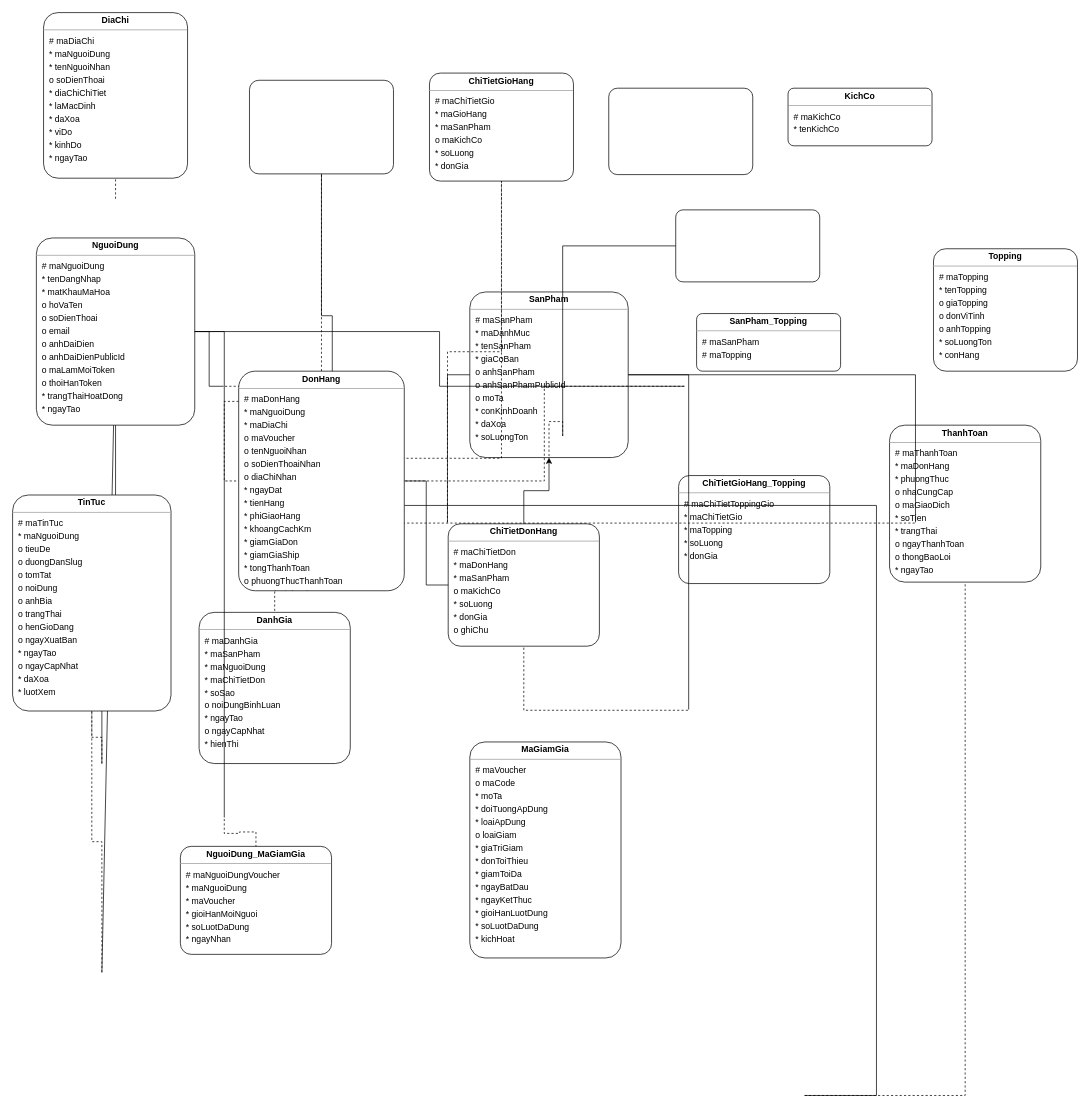
Image size: 1090x1109. Some labels were removed from this diagram. Each missing label, with the centre of its shape:
DanhMuc # maDanhMuc * tenDanhMuc o moTa: pixel 747 245
GioHang # maGioHang * maNguoiDung * trangThai * ngayTao * ngayCapNhat: pixel 321 127
SanPham_KichCo # maSanPham # maKichCo o giaThem * soLuongTon: pixel 680 131
